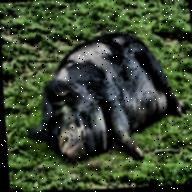boar: (15, 17, 192, 176)
